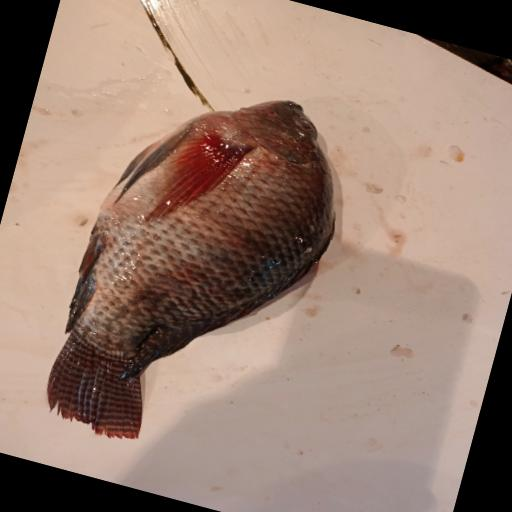Tilapia: (37, 59, 365, 481)
